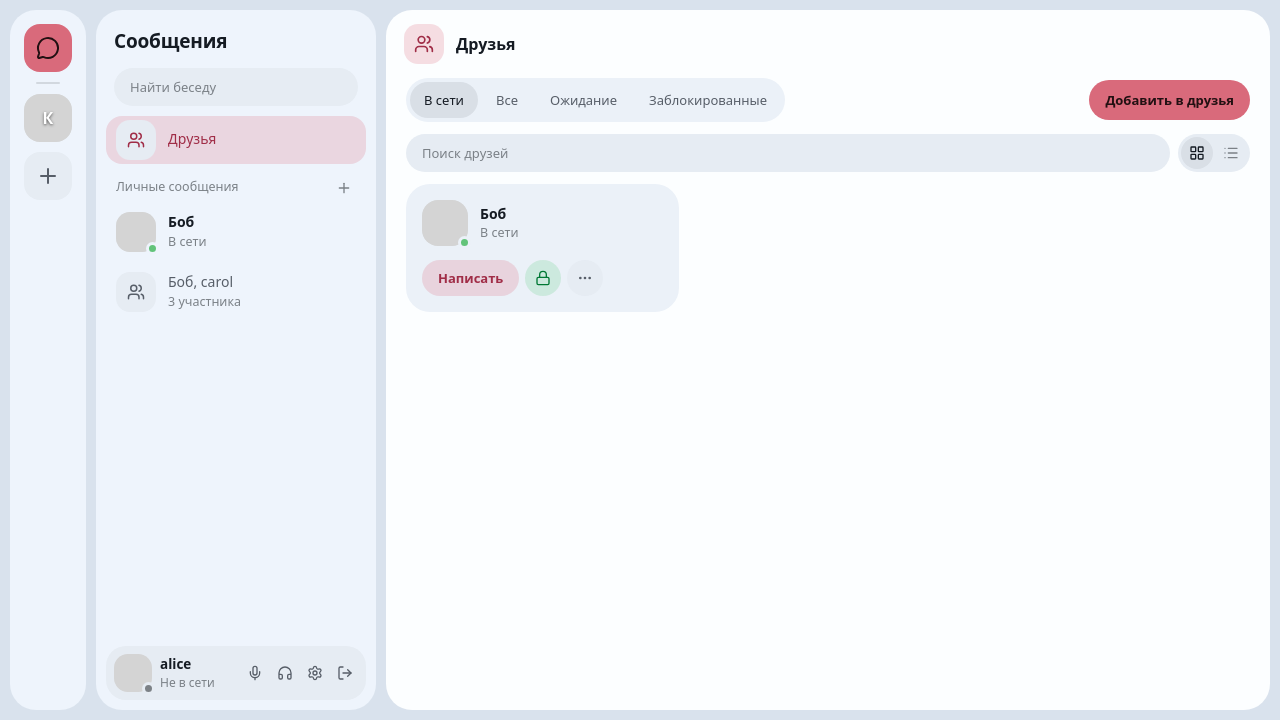
Test case: friends page › lists friends, online ones first by default
Expected: the heading "Друзья" is shown, [456,32,516,56]
Expected: the button "Боб" is shown, [480,204,518,224]
Step 1. Click the tab "Все" → (507, 100), box [482,82,532,118]
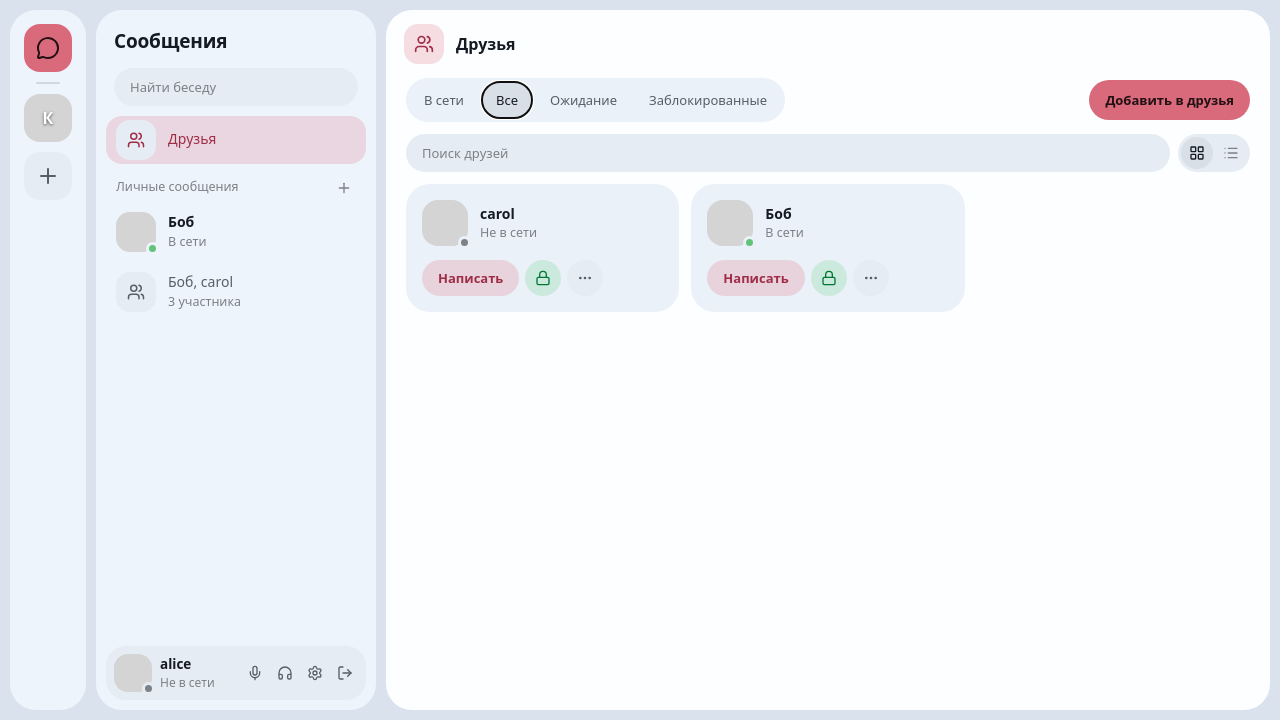
Expected: the button "Боб" is shown, [765,204,804,224]
Expected: the button "carol" is shown, [480,204,537,224]
